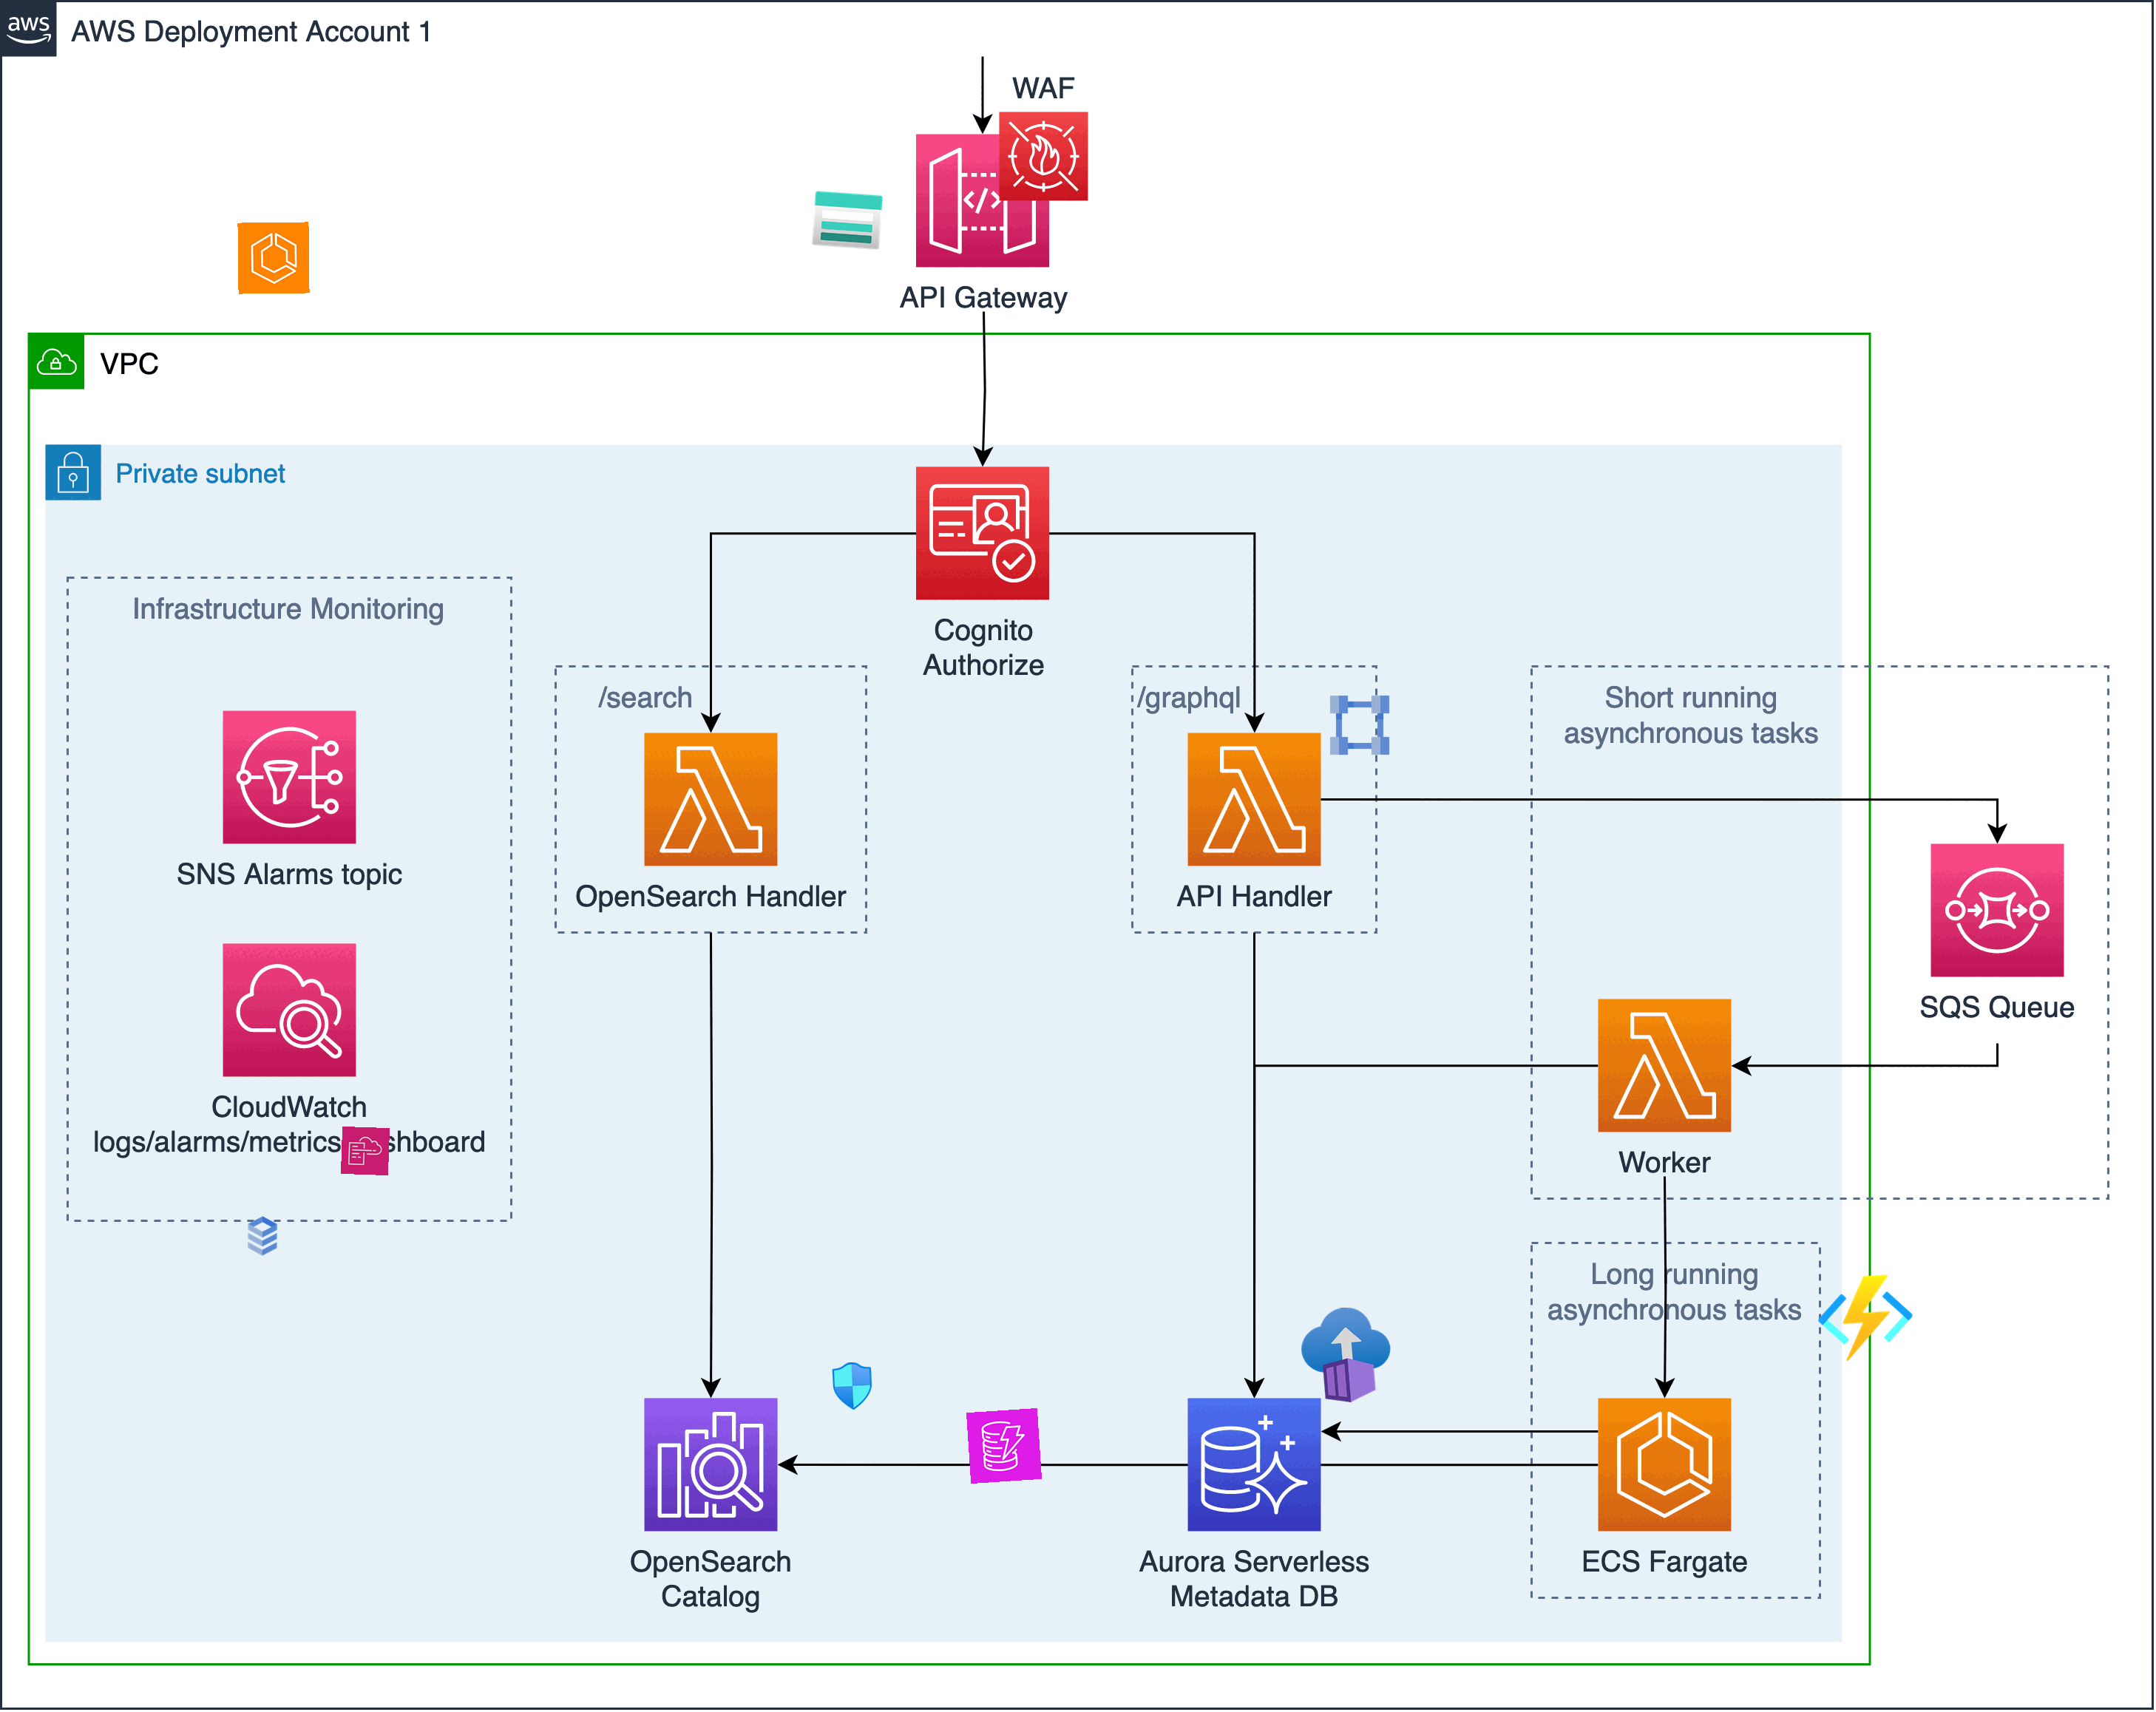aws_amazon_dynamodb: (966, 1408, 1043, 1485)
aws_amazon_elastic_container_service: (238, 222, 310, 294)
aws_cloudformation: (339, 1126, 390, 1177)
azure_container_instances: (1295, 1305, 1398, 1406)
azure_function_apps: (1815, 1268, 1916, 1368)
azure_network_security_groups: (828, 1361, 878, 1411)
azure_storage_accounts: (808, 182, 885, 259)
gcp_cloud_sql: (238, 1212, 287, 1261)
gcp_virtual_private_cloud: (1323, 689, 1397, 761)
